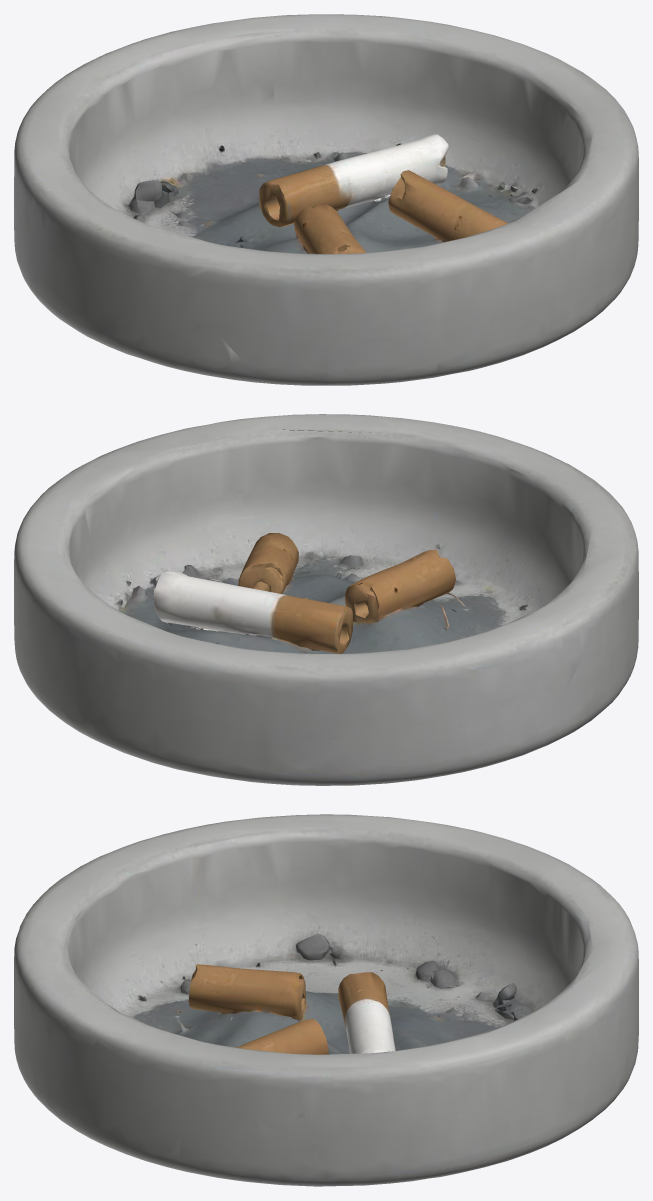
The model's file is ashtray.glb.
The picture shows the model from 3 angles, top to bottom: view 1: azimuth 30°, elevation 25°; view 2: azimuth 150°, elevation 25°; view 3: azimuth 270°, elevation 25°; orthographic projection.
Visible parts, largest first — view 1: ashtray; view 2: ashtray; view 3: ashtray.
Boxes of the visible parts, x1,y1,x2,y2 form: ashtray: (14, 14, 638, 385); ashtray: (14, 414, 638, 785); ashtray: (14, 814, 638, 1186).
Size of the model in its own units: 0.38 by 0.084 by 0.38.
1 material, 1 textured.
